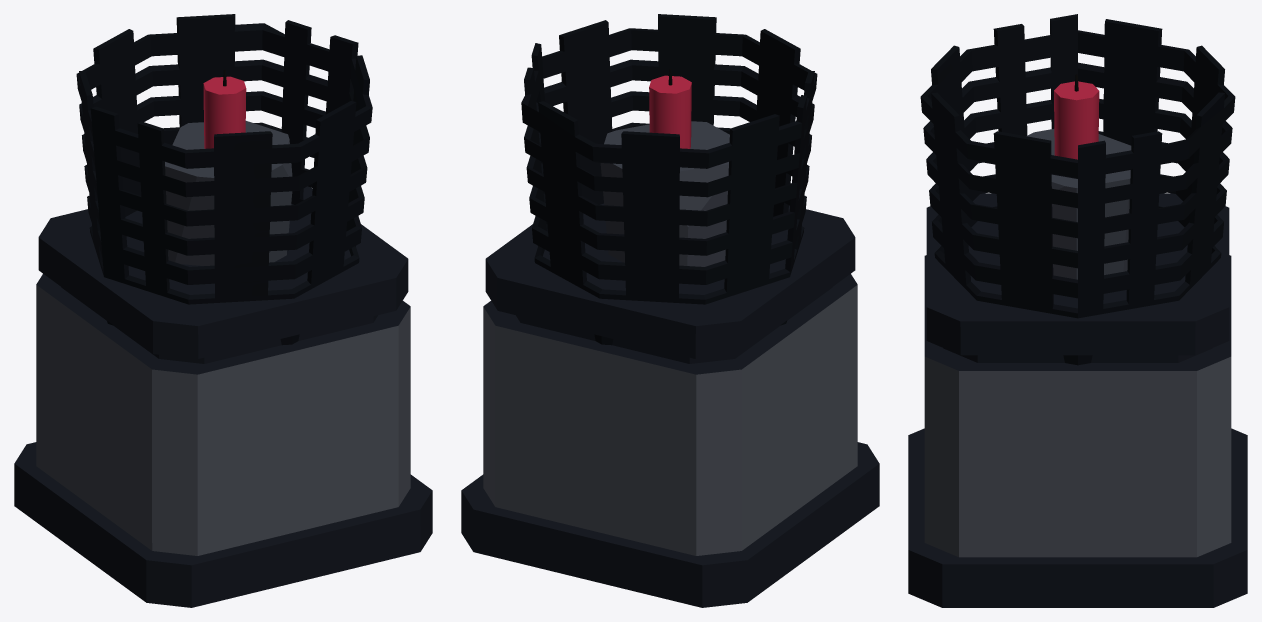
File: bougie.fbx
3 renders of one model, left to right at view 1: azimuth 30°, elevation 25°; view 2: azimuth 150°, elevation 25°; view 3: azimuth 270°, elevation 25°, orthographic. The views are drawn at different scales.
Parts seen in each view (by area): view 1: Bougie; view 2: Bougie; view 3: Bougie.
Boxes of the visible parts, x1=… form: Bougie: x1=14, y1=14, x2=432, y2=607; Bougie: x1=461, y1=14, x2=879, y2=607; Bougie: x1=908, y1=14, x2=1247, y2=607.
Size of the model in its own units: 73.09 by 110 by 73.09.
